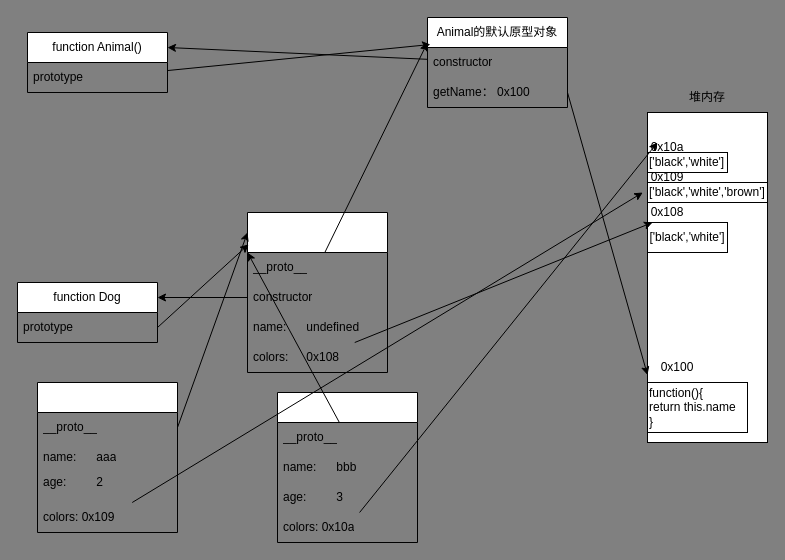
The diagram is 785 pixels wide and 560 high, and some of its shapes have lost their labels. The shapes that lost their labels are listed below. From the top down, each one's box as (x1, y1, x2, y2) in pixels, then its label:
(246, 212, 388, 372): new Animal()
(36, 382, 178, 532): dog1
(276, 392, 418, 542): dog2
